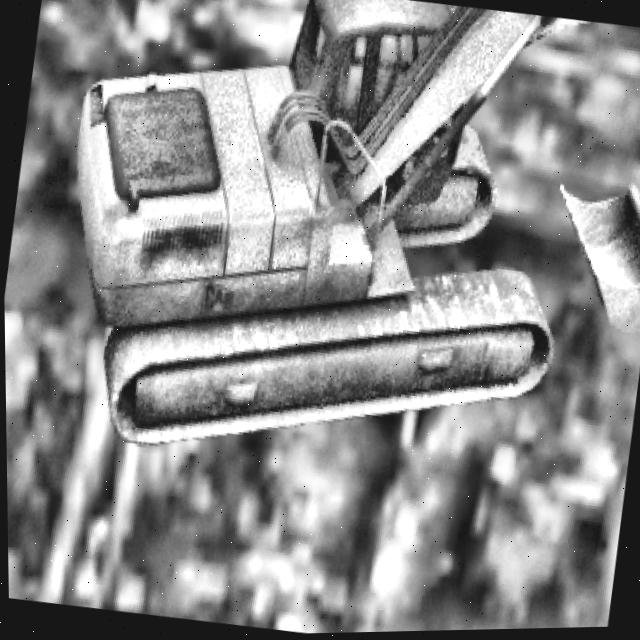excavator: (33, 0, 640, 514)
